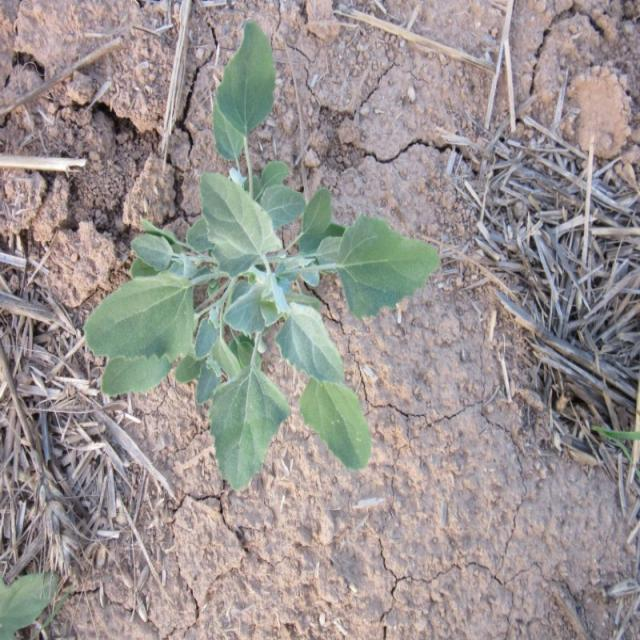ca: (84, 158, 439, 494)
